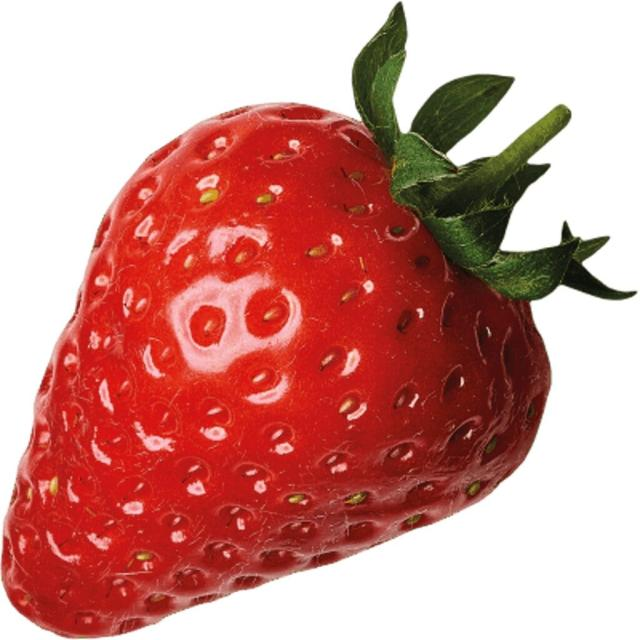strawberry: (0, 45, 586, 640)
